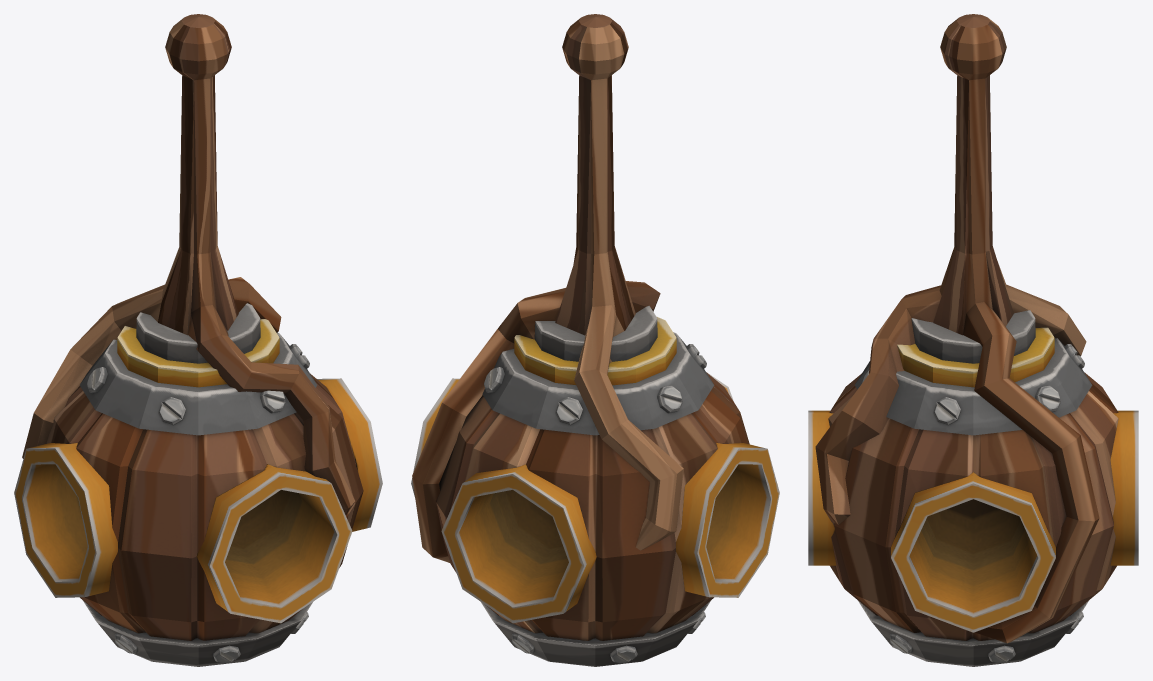
File: RucheBebeille.FBX
The picture shows the model from 3 angles, left to right: view 1: azimuth 30°, elevation 25°; view 2: azimuth 150°, elevation 25°; view 3: azimuth 270°, elevation 25°; orthographic projection.
Parts seen in each view (by area): view 1: RucheBebeille; view 2: RucheBebeille; view 3: RucheBebeille.
Part boxes in pixels (x1=…): RucheBebeille: x1=14, y1=14, x2=382, y2=666; RucheBebeille: x1=411, y1=14, x2=779, y2=666; RucheBebeille: x1=808, y1=14, x2=1138, y2=666.
Size of the model in its own units: 2.04 by 4.15 by 2.04.
